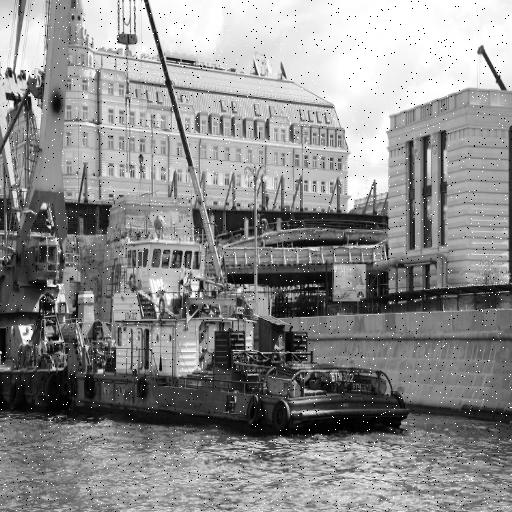tugboat: (65, 214, 414, 443)
